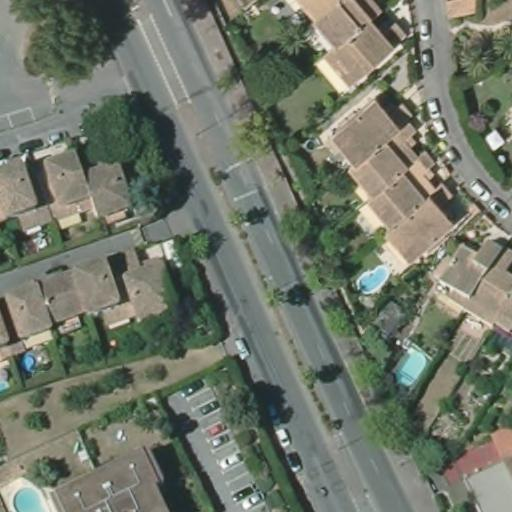pool: (387, 343, 425, 389), (351, 262, 390, 296), (6, 480, 47, 510), (22, 352, 35, 372), (0, 378, 11, 392)
